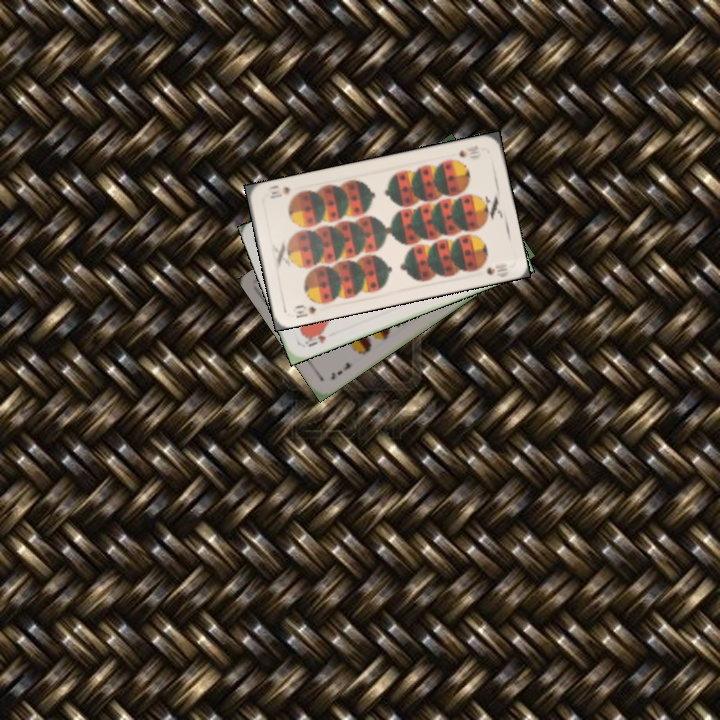E7: (327, 358, 354, 383)
HO: (301, 326, 328, 350)
S10: (289, 301, 319, 321), (455, 141, 482, 160)
